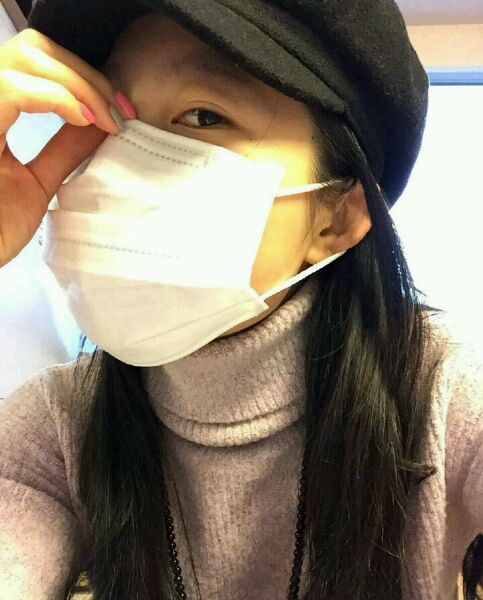face_mask: (58, 0, 320, 366)
